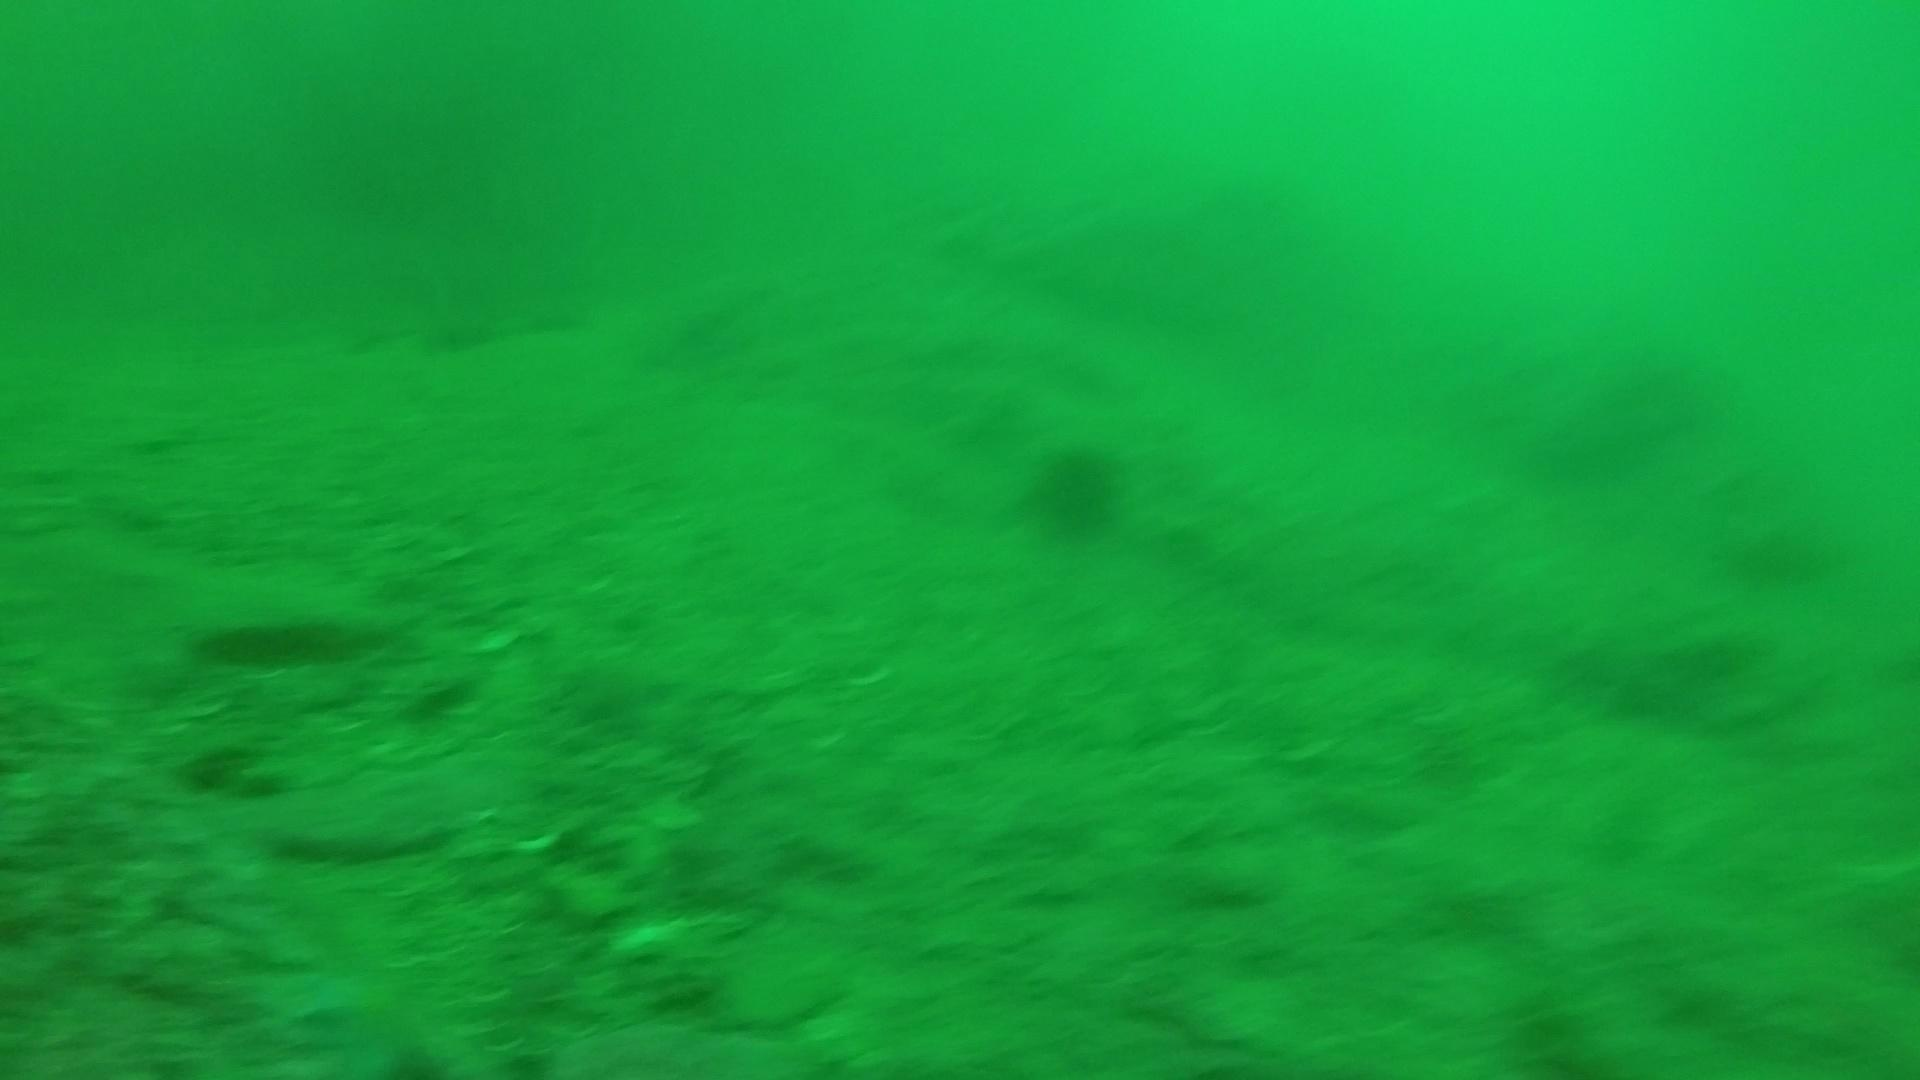echinus: (1022, 435, 1129, 541), (1724, 509, 1840, 592)
starfish: (287, 956, 493, 1080)
